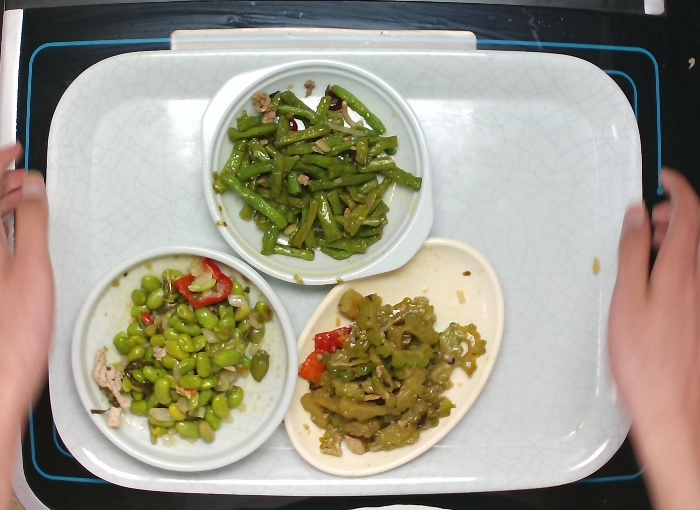JYsf-Shuang_Er_Pan: (197, 55, 439, 289)
JYsf-Tuo_Yuan_Wan: (281, 233, 508, 480)
JYsf-Xiao_Yuan_Pan: (68, 241, 301, 475)
